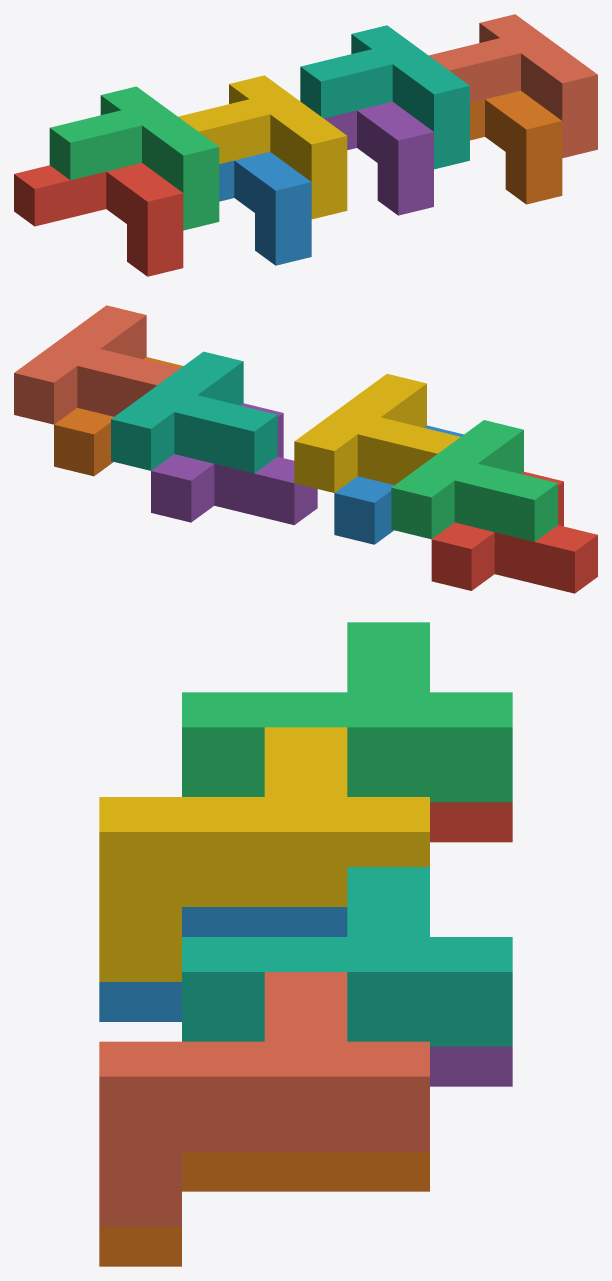
File: tiling.obj
The picture shows the model from 3 angles, top to bottom: view 1: azimuth 30°, elevation 25°; view 2: azimuth 150°, elevation 25°; view 3: azimuth 270°, elevation 25°; orthographic projection. The views are drawn at different scales.
Parts seen in each view (by area): view 1: copy_1_domain_3, copy_1_domain_7, copy_1_domain_4, copy_1_domain_8, copy_1_domain_1, copy_1_domain_5, copy_1_domain_6, copy_1_domain_2; view 2: copy_1_domain_7, copy_1_domain_3, copy_1_domain_4, copy_1_domain_8, copy_1_domain_1, copy_1_domain_5, copy_1_domain_2, copy_1_domain_6; view 3: copy_1_domain_8, copy_1_domain_4, copy_1_domain_3, copy_1_domain_7, copy_1_domain_6, copy_1_domain_2, copy_1_domain_1, copy_1_domain_5.
Part boxes in pixels (left/top/right/bottom): copy_1_domain_3: left=49, top=86, right=219, bottom=230; copy_1_domain_7: left=300, top=25, right=469, bottom=169; copy_1_domain_4: left=178, top=75, right=347, bottom=219; copy_1_domain_8: left=429, top=14, right=597, bottom=158; copy_1_domain_1: left=14, top=163, right=183, bottom=276; copy_1_domain_5: left=324, top=101, right=433, bottom=215; copy_1_domain_6: left=470, top=90, right=562, bottom=204; copy_1_domain_2: left=219, top=152, right=311, bottom=265; copy_1_domain_7: left=111, top=351, right=277, bottom=473; copy_1_domain_3: left=391, top=420, right=557, bottom=541; copy_1_domain_4: left=294, top=374, right=460, bottom=492; copy_1_domain_8: left=14, top=305, right=179, bottom=424; copy_1_domain_1: left=431, top=471, right=597, bottom=593; copy_1_domain_5: left=151, top=403, right=317, bottom=525; copy_1_domain_2: left=334, top=425, right=463, bottom=544; copy_1_domain_6: left=54, top=357, right=183, bottom=476; copy_1_domain_8: left=99, top=972, right=429, bottom=1226; copy_1_domain_4: left=99, top=727, right=429, bottom=981; copy_1_domain_3: left=182, top=622, right=512, bottom=802; copy_1_domain_7: left=182, top=867, right=512, bottom=1046; copy_1_domain_6: left=99, top=1151, right=429, bottom=1266; copy_1_domain_2: left=99, top=907, right=347, bottom=1021; copy_1_domain_1: left=430, top=802, right=512, bottom=842; copy_1_domain_5: left=430, top=1046, right=512, bottom=1086.
Bounding box in the file's own units: 14 × 3 × 5.
